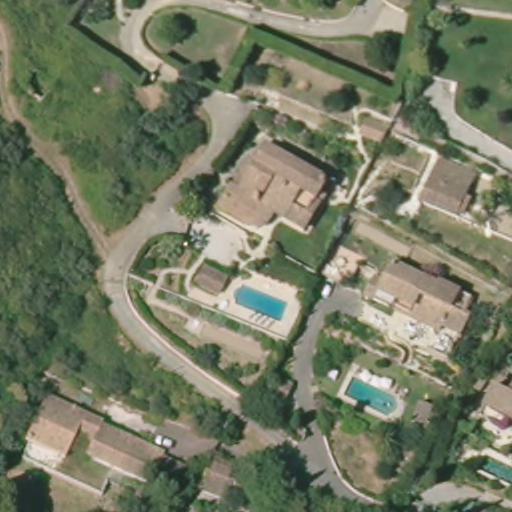pool: (339, 372, 406, 419), (228, 277, 291, 324), (472, 446, 512, 487)
